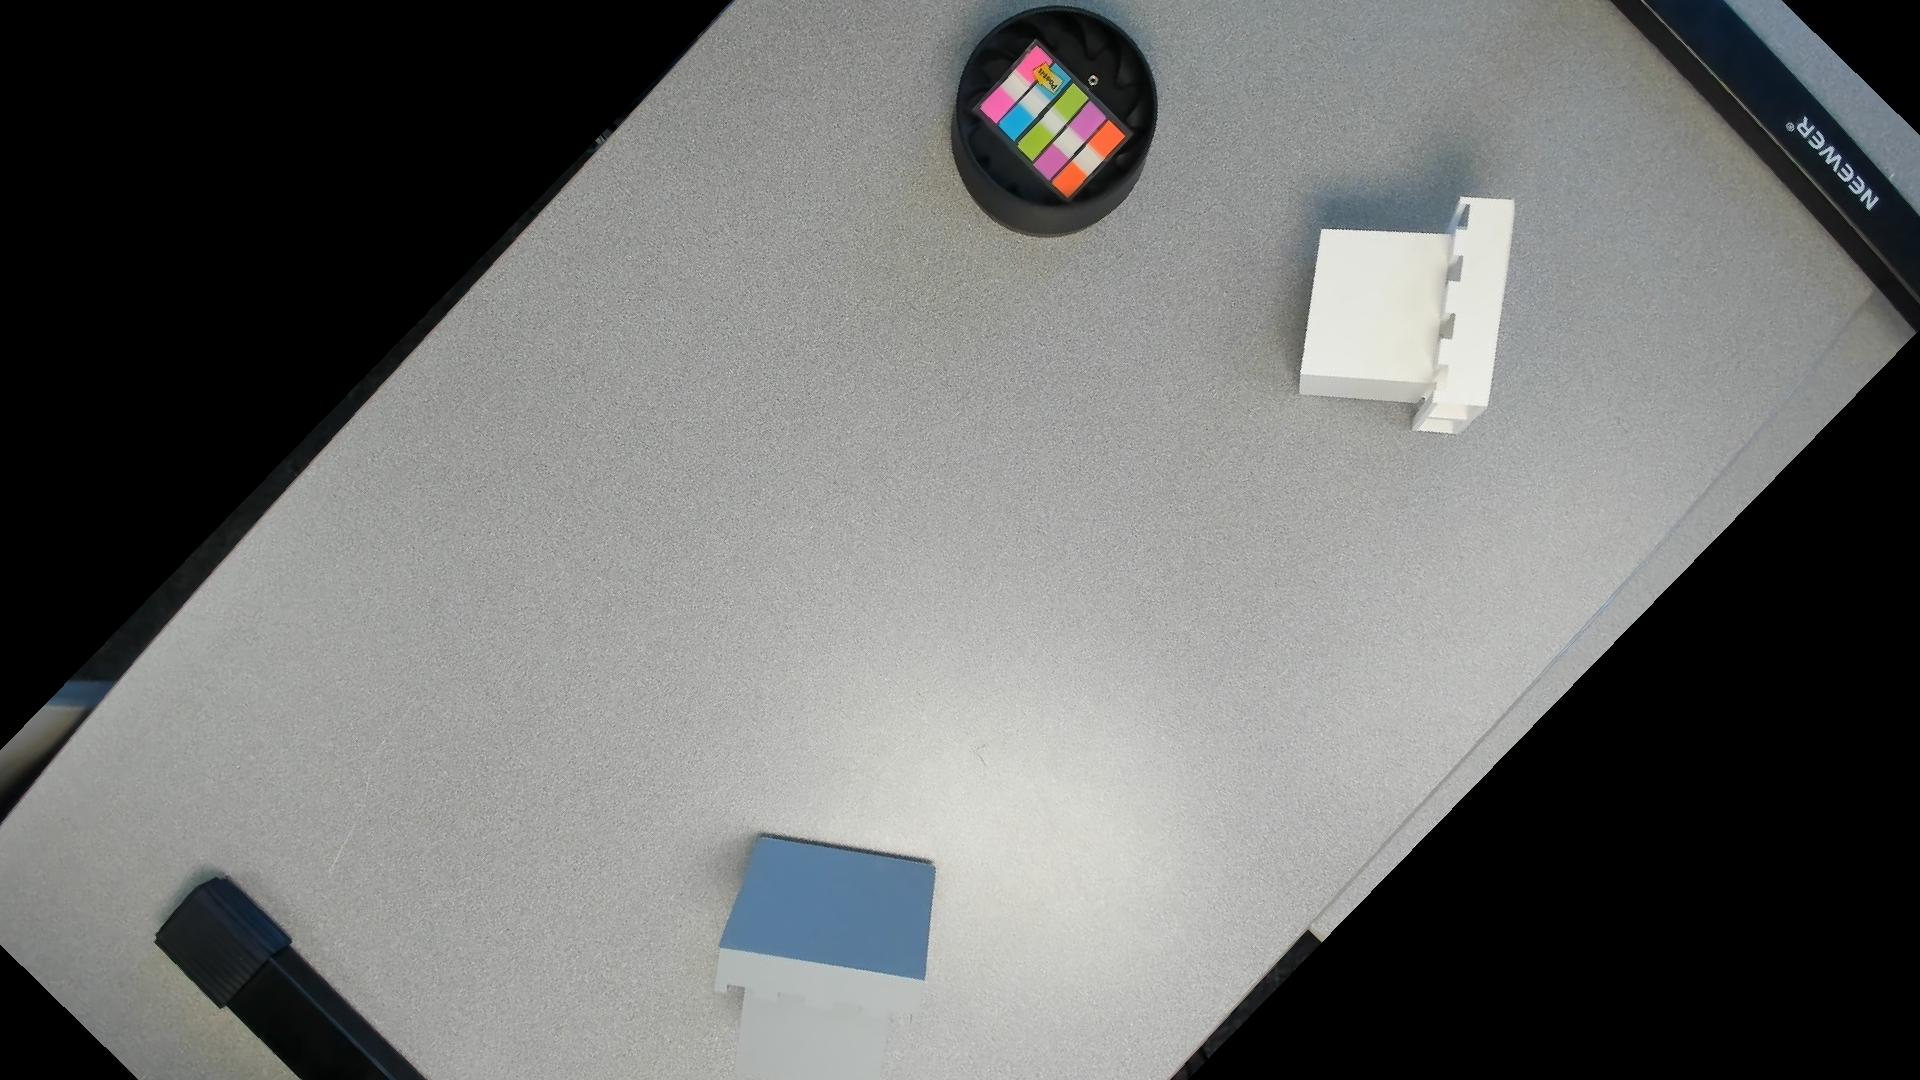grey pallet: (702, 818, 959, 1080)
white pallet: (1291, 182, 1531, 469)
